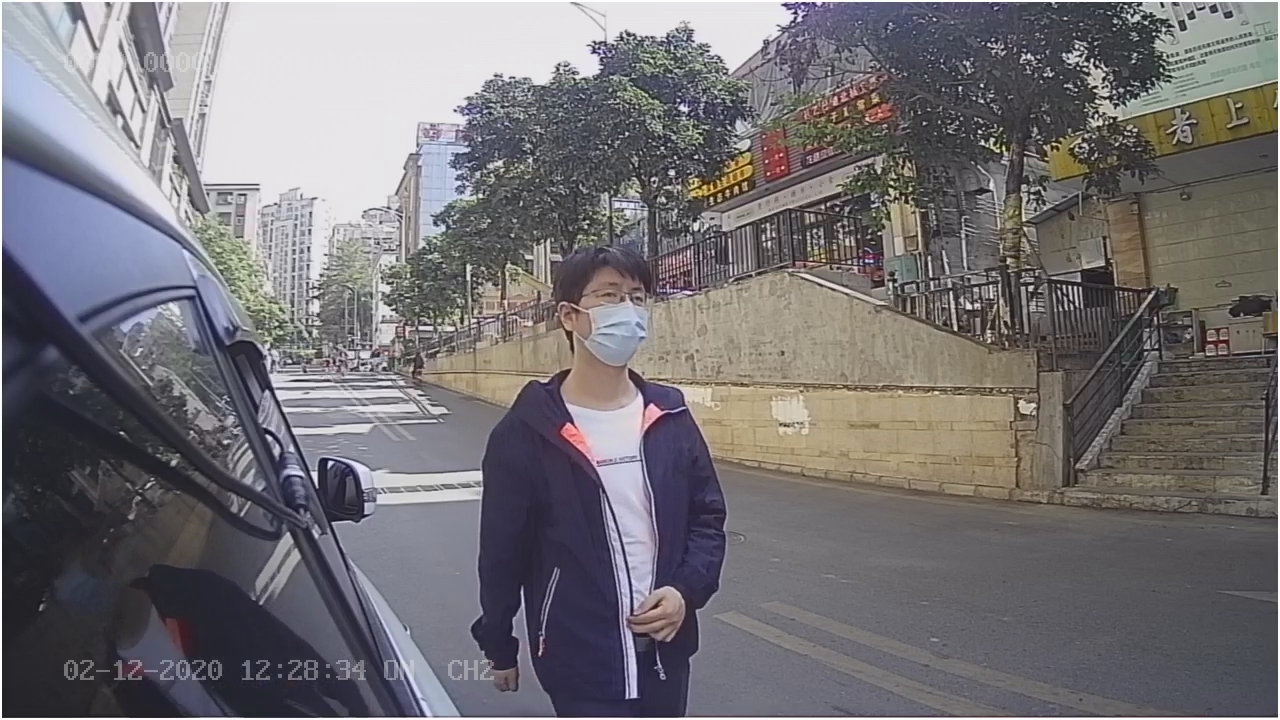person: (467, 229, 734, 641)
